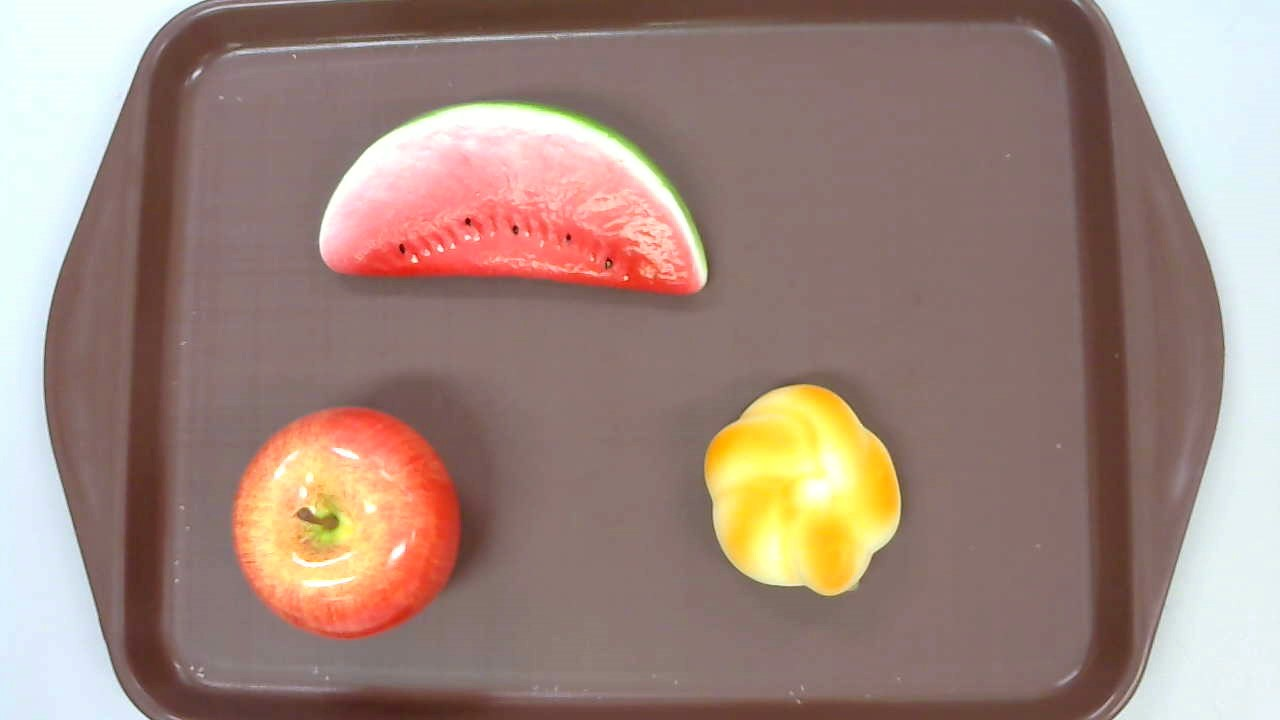red apple: (232, 407, 461, 640)
twist bread: (703, 385, 900, 596)
water melon: (318, 99, 710, 297)
